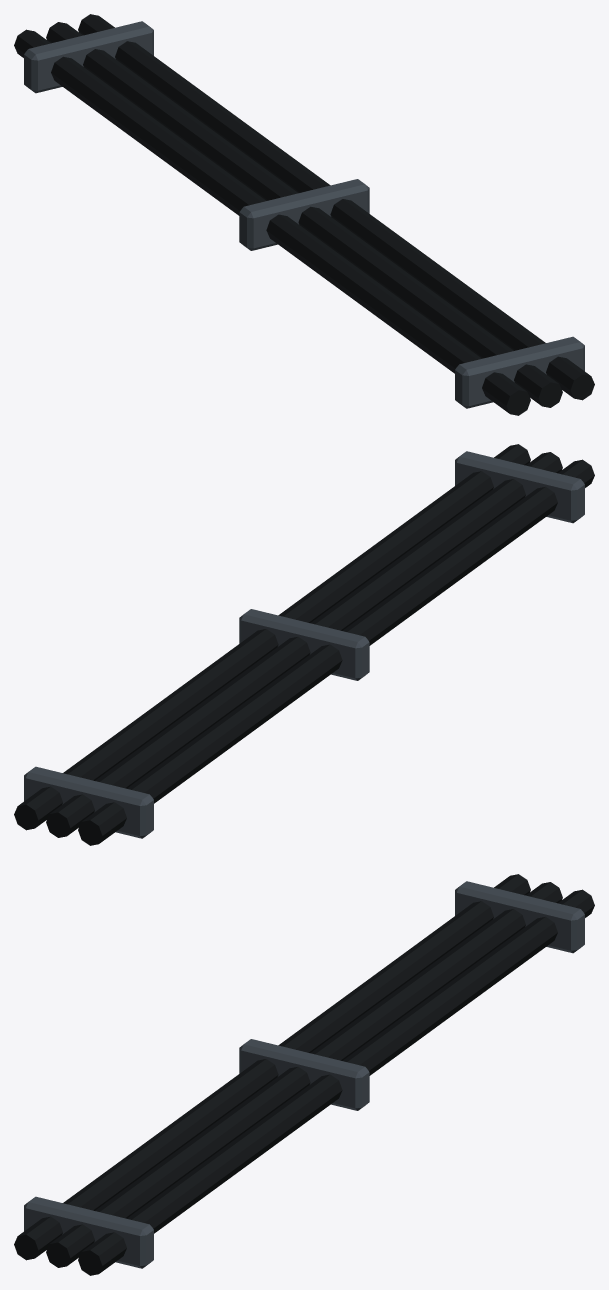
File: CeilingCableBundle.fbx
3 renders of one model, top to bottom at view 1: azimuth 30°, elevation 25°; view 2: azimuth 150°, elevation 25°; view 3: azimuth 330°, elevation 25°, orthographic.
Visible parts, largest first — view 1: CeilingCableBundle; view 2: CeilingCableBundle; view 3: CeilingCableBundle.
Part boxes in pixels (x1,y1,x2,y2): CeilingCableBundle: [14, 14, 594, 415]; CeilingCableBundle: [14, 444, 594, 845]; CeilingCableBundle: [14, 874, 594, 1275].
Size of the model in its own units: 23 by 7 by 160.
Materials: 1 (1 with a texture image).
